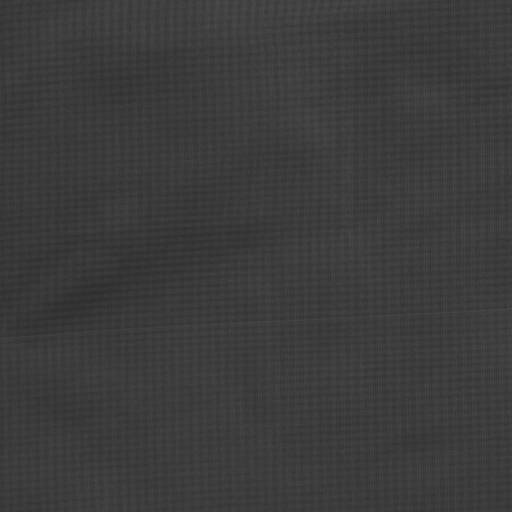defect: (1, 304, 512, 349)
